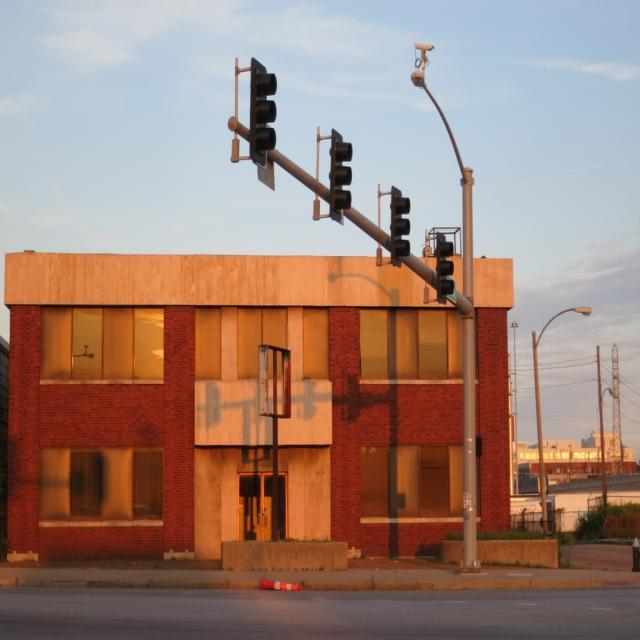off traffic light: (249, 57, 278, 168), (329, 127, 353, 225), (391, 185, 411, 268), (436, 231, 456, 306)
